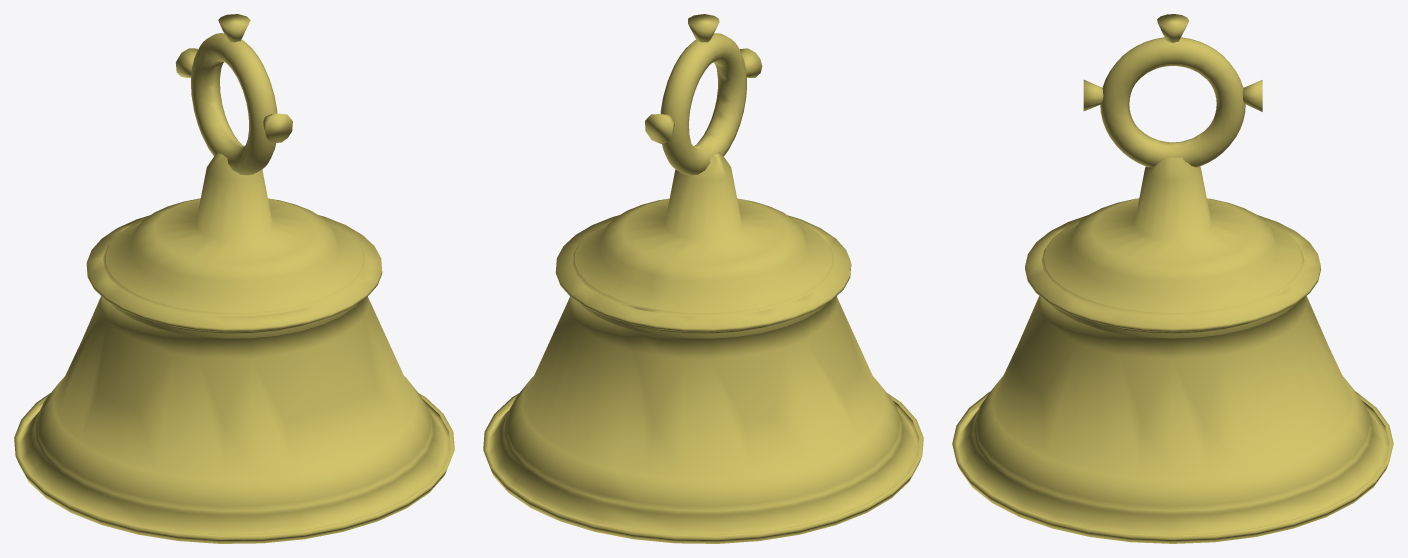
The model's file is bell.glb.
The picture shows the model from 3 angles, left to right: view 1: azimuth 30°, elevation 25°; view 2: azimuth 150°, elevation 25°; view 3: azimuth 270°, elevation 25°; orthographic projection.
Parts seen in each view (by area): view 1: Cylinder_1, Torus_2; view 2: Cylinder_1, Torus_2; view 3: Cylinder_1, Torus_2.
Part boxes in pixels (left/top/right/bottom): Cylinder_1: left=14, top=14, right=454, bottom=543; Torus_2: left=191, top=33, right=277, bottom=175; Cylinder_1: left=483, top=14, right=923, bottom=543; Torus_2: left=660, top=33, right=746, bottom=175; Cylinder_1: left=952, top=14, right=1393, bottom=543; Torus_2: left=1100, top=37, right=1245, bottom=167.
Bounding box in the file's own units: 3.29 × 3.69 × 3.29.
